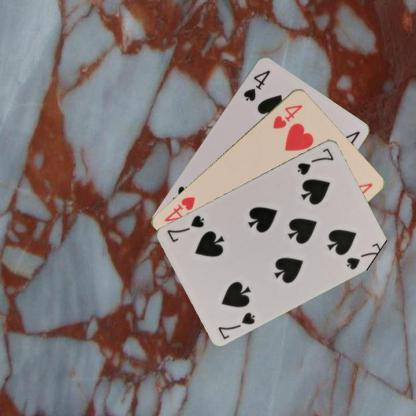4h: (270, 102, 303, 130)
4s: (240, 67, 272, 102)
7s: (295, 145, 335, 176), (216, 309, 256, 340)
